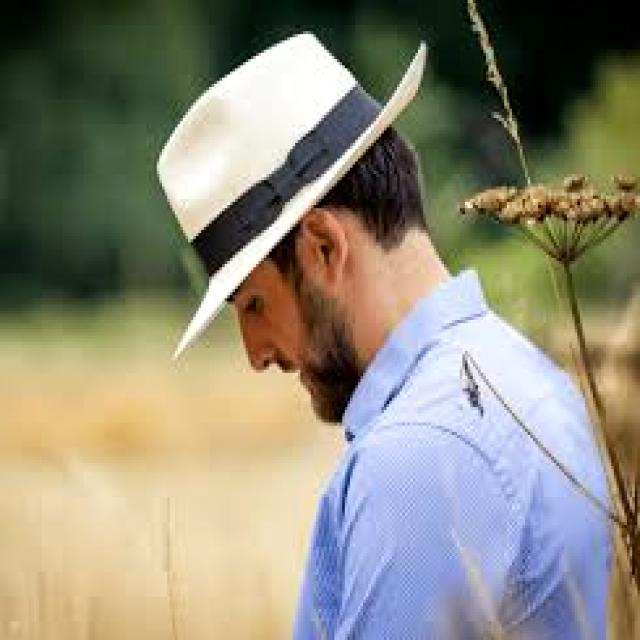hat: (157, 35, 425, 357)
